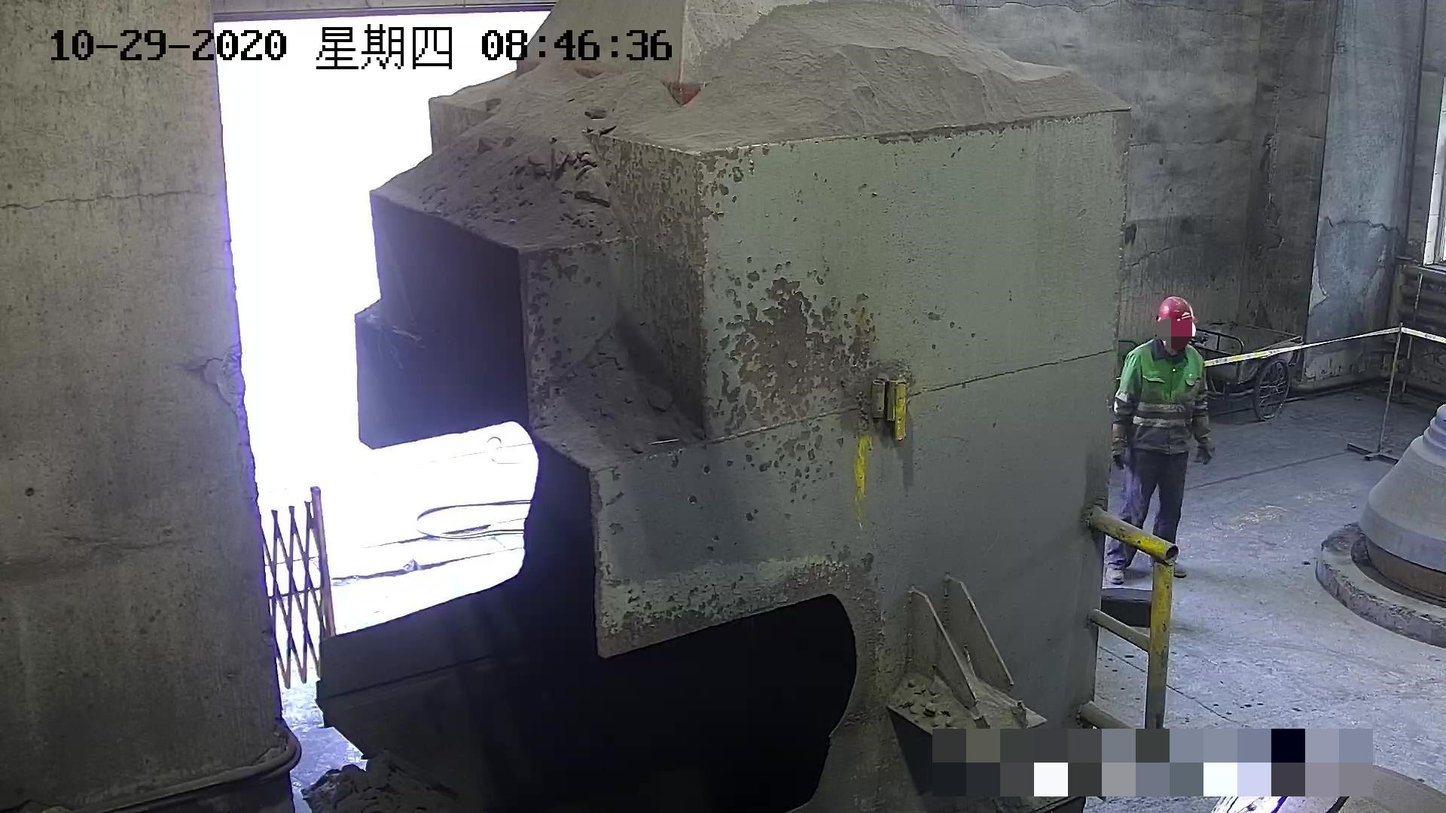hat: (1155, 295, 1197, 349)
person: (1103, 294, 1219, 587)
